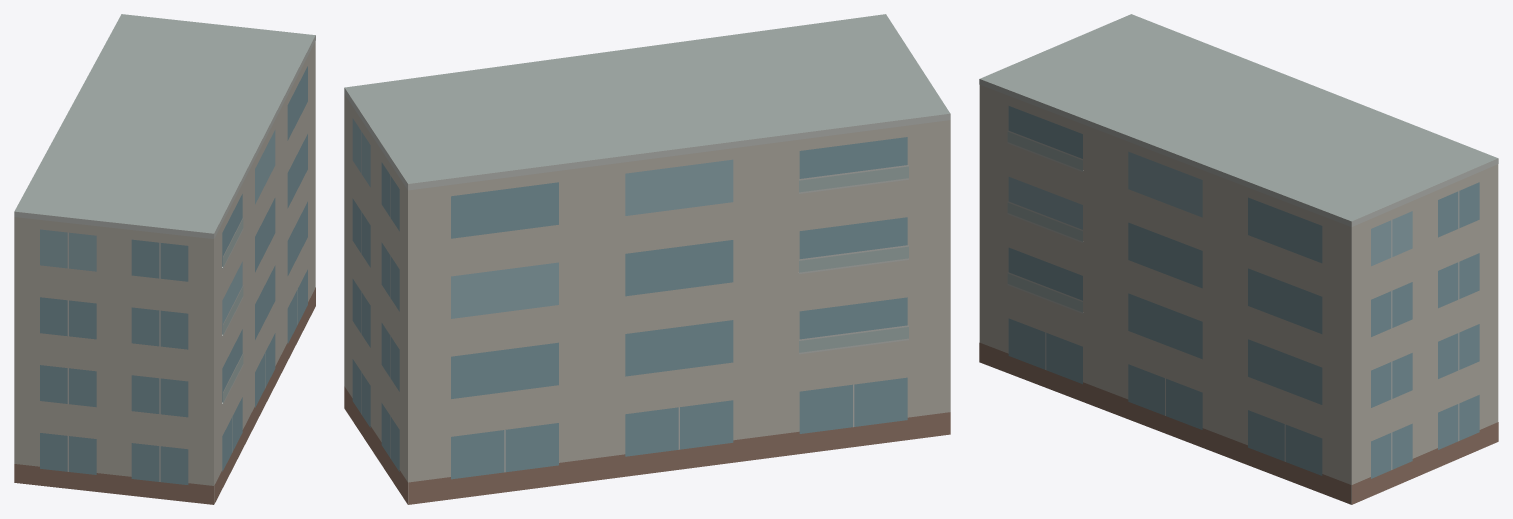
The model's file is survey-upis-32568539.glb.
The picture shows the model from 3 angles, left to right: view 1: azimuth 30°, elevation 25°; view 2: azimuth 150°, elevation 25°; view 3: azimuth 270°, elevation 25°; orthographic projection. The views are drawn at different scales.
Visible parts, largest first — view 1: survey-upis-32568539.tmp; view 2: survey-upis-32568539.tmp; view 3: survey-upis-32568539.tmp.
Part boxes in pixels (left/top/right/bottom): survey-upis-32568539.tmp: left=14, top=14, right=315, bottom=504; survey-upis-32568539.tmp: left=344, top=14, right=950, bottom=504; survey-upis-32568539.tmp: left=979, top=14, right=1498, bottom=504.
Bounding box in the file's own units: 19.16 × 12.2 × 20.25.
